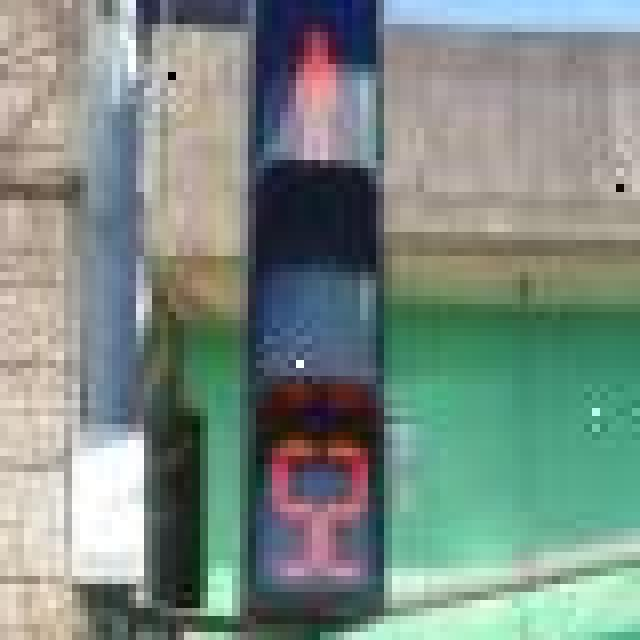redlight: (249, 3, 391, 405)
